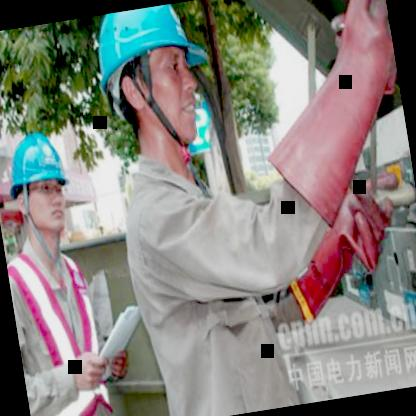helmet: (81, 0, 224, 168), (0, 114, 87, 259)
